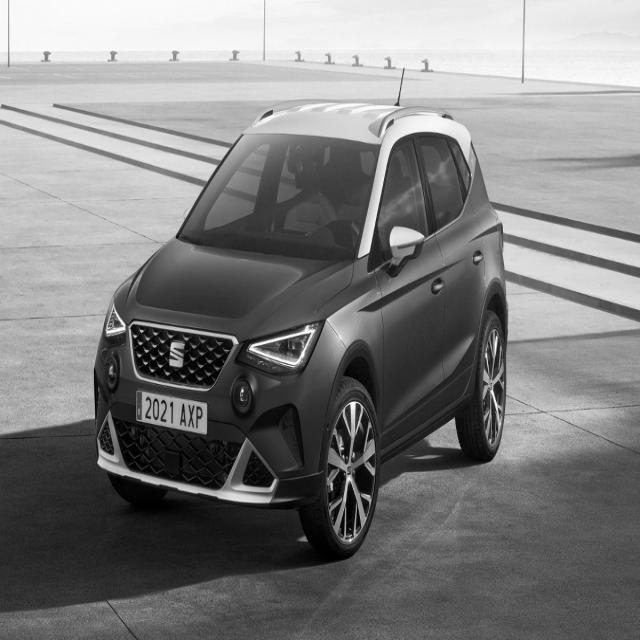License-Plate: (135, 388, 208, 437)
